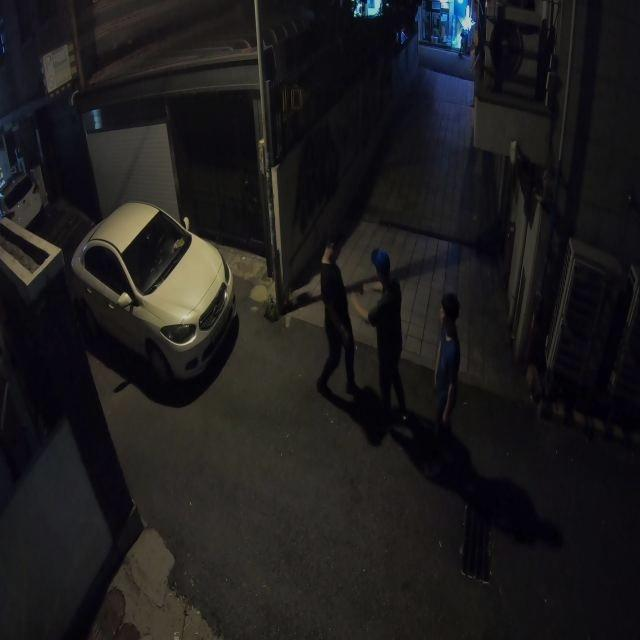fight: (311, 237, 410, 429)
non-fight: (427, 293, 463, 425)
